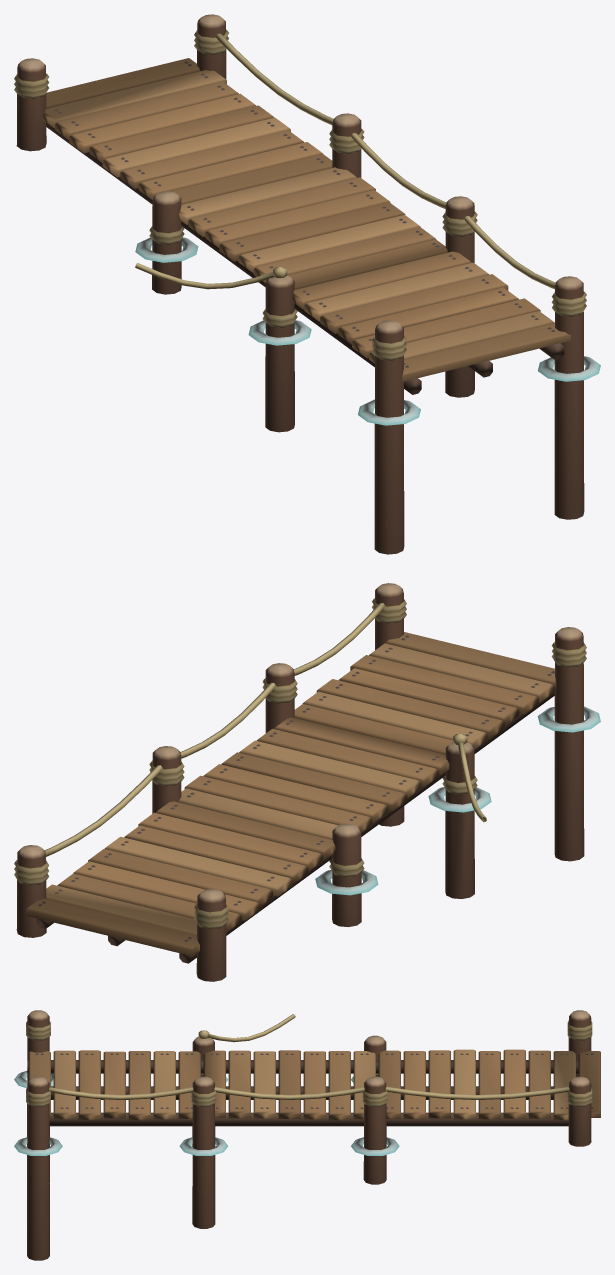
The model's file is poi-pier-0.glb.
3 renders of one model, top to bottom at view 1: azimuth 30°, elevation 25°; view 2: azimuth 150°, elevation 25°; view 3: azimuth 270°, elevation 25°, orthographic. The views are drawn at different scales.
Visible parts, largest first — view 1: body; view 2: body; view 3: body.
Part boxes in pixels (<box>): body: <box>14,14,600,554</box>; body: <box>14,583,600,981</box>; body: <box>14,1010,600,1260</box>.
Size of the model in its own units: 3.45 by 2.63 by 7.91.
